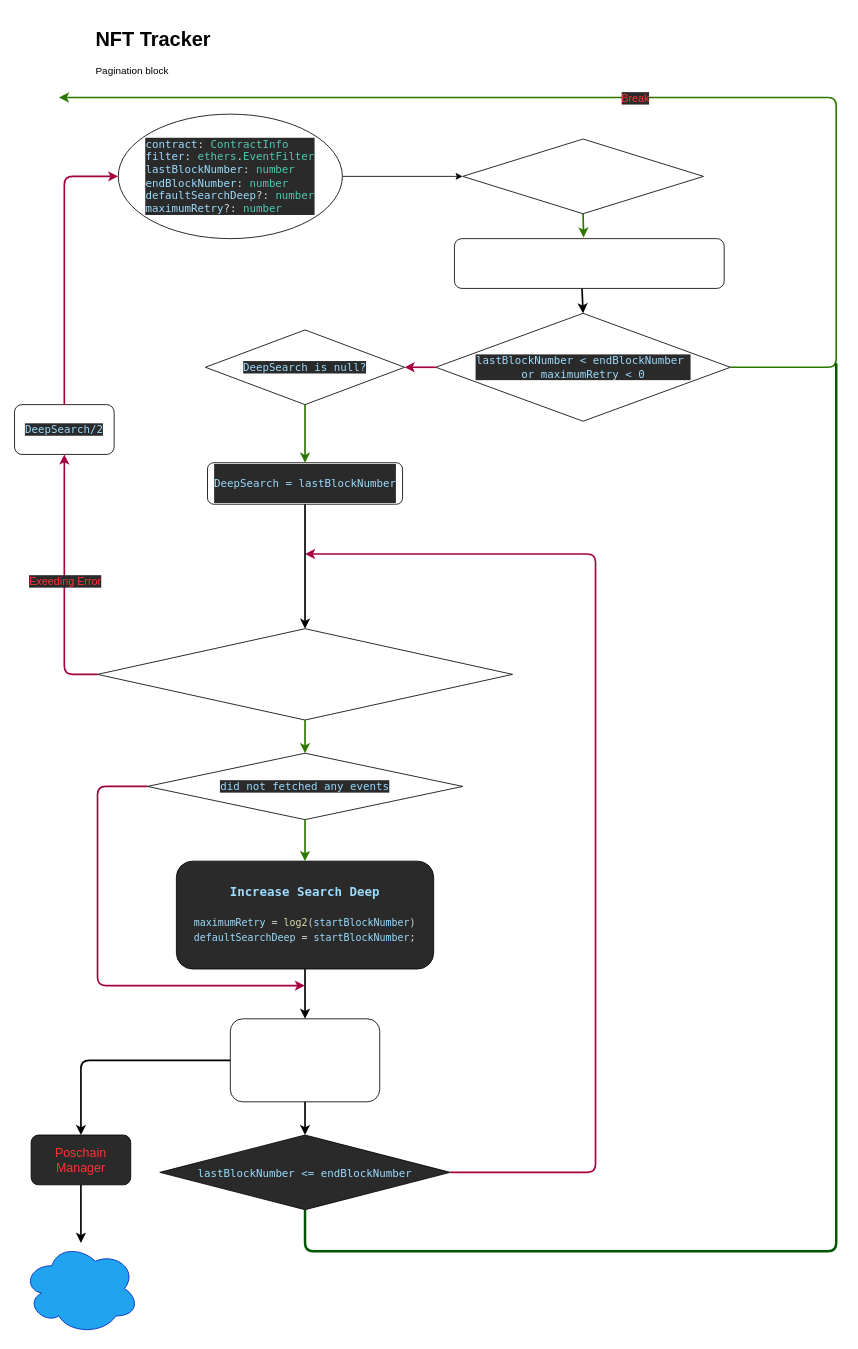
The diagram is 858 pixels wide and 1349 high, and some of its shapes have lost their labels. The shapes that lost their labels are listed below. From the top down, each one's centre as x and y in pixels, then its label:
At [582,176]: "maximumRetry is null?".
At [589,263]: "maximumRetry = Log2(lastBlockNumber)".
At [305,674]: "fetch events from startBlockNumer to lastBlockNumber".
At [304,1060]: "fetch additional info and process lastBlockNumber = startBlockNumber".
At [80,1288]: "Oracle Node".
